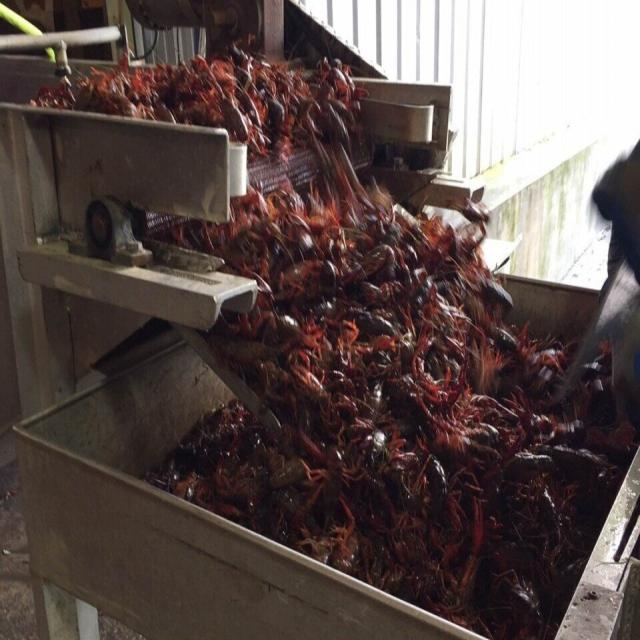Crawfish: (149, 144, 635, 637), (34, 45, 364, 157)
